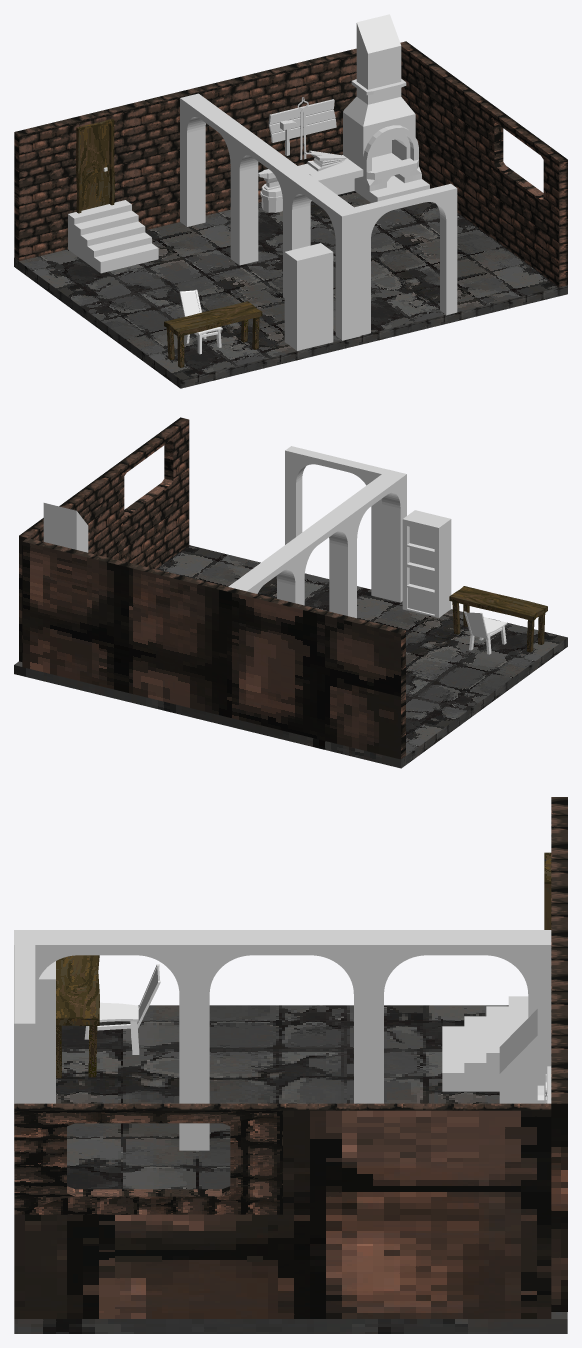
Rendered from Level-1.glb.
3 views of the same model, one above another, from view 1: azimuth 30°, elevation 25°; view 2: azimuth 150°, elevation 25°; view 3: azimuth 270°, elevation 25° (orthographic). The views are drawn at different scales.
Parts seen in each view (by area): view 1: Isometric-View, Isometric-View.001, Cube, Arc-To-Room.001, Arc-To-Room.003, Bookshelf_Thin, Arc-To-Room, Staircase, Arc-To-Room.002, Table, Door, Tool_Shelf (+4 smaller); view 2: Isometric-View, Isometric-View.001, Bookshelf_Thin, Arc-To-Room.001, Arc-To-Room, Arc-To-Room.002, Table, Arc-To-Room.003, Cube, Chair; view 3: Isometric-View, Isometric-View.001, Arc-To-Room.003, Arc-To-Room.002, Arc-To-Room.001, Staircase, Table, Arc-To-Room, Cube, Bookshelf_Thin, Chair.
Boxes of the visible parts, left/top/right/bottom form: Isometric-View: left=14, top=41, right=567, bottom=287; Isometric-View.001: left=14, top=191, right=567, bottom=388; Cube: left=298, top=14, right=429, bottom=202; Arc-To-Room.001: left=289, top=173, right=360, bottom=340; Arc-To-Room.003: left=180, top=93, right=254, bottom=263; Bookshelf_Thin: left=284, top=243, right=333, bottom=350; Arc-To-Room: left=354, top=183, right=457, bottom=335; Staircase: left=68, top=200, right=158, bottom=273; Arc-To-Room.002: left=237, top=135, right=307, bottom=298; Table: left=164, top=301, right=262, bottom=367; Door: left=81, top=124, right=110, bottom=210; Tool_Shelf: left=268, top=99, right=336, bottom=142; Isometric-View: left=19, top=417, right=405, bottom=759; Isometric-View.001: left=14, top=545, right=567, bottom=768; Bookshelf_Thin: left=402, top=510, right=451, bottom=617; Arc-To-Room.001: left=336, top=469, right=406, bottom=618; Arc-To-Room: left=285, top=446, right=387, bottom=597; Arc-To-Room.002: left=283, top=508, right=354, bottom=617; Table: left=449, top=586, right=547, bottom=652; Arc-To-Room.003: left=228, top=546, right=301, bottom=604; Cube: left=43, top=503, right=88, bottom=552; Chair: left=464, top=611, right=507, bottom=654; Isometric-View: left=14, top=797, right=567, bottom=1318; Isometric-View.001: left=14, top=1005, right=567, bottom=1333; Arc-To-Room.003: left=362, top=930, right=551, bottom=1103; Arc-To-Room.002: left=188, top=930, right=362, bottom=1150; Arc-To-Room.001: left=14, top=930, right=188, bottom=1150; Staircase: left=442, top=996, right=528, bottom=1091; Table: left=56, top=955, right=99, bottom=1078; Arc-To-Room: left=14, top=945, right=35, bottom=1103; Cube: left=499, top=1009, right=537, bottom=1103; Bookshelf_Thin: left=35, top=961, right=55, bottom=1103; Chair: left=84, top=964, right=160, bottom=1056.
Size of the model in its own units: 13.44 by 5.62 by 10.02.
Materials: 6 (3 with a texture image).
